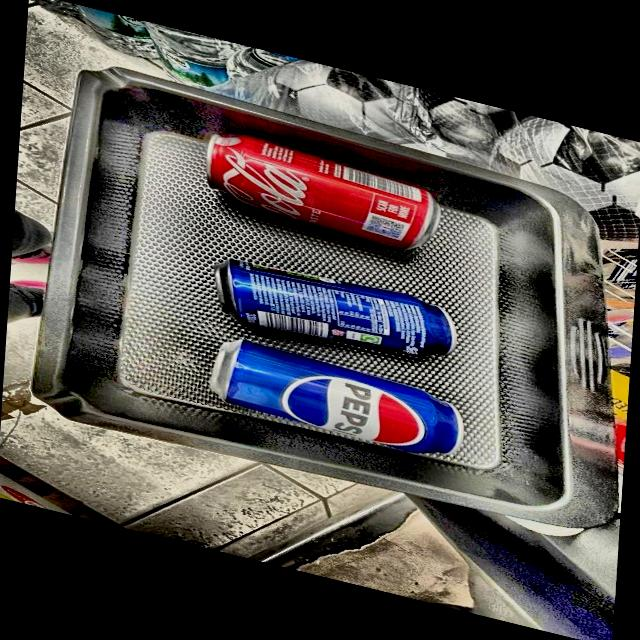coke-can: (204, 128, 446, 254)
pepsi-can: (202, 342, 460, 456), (210, 250, 464, 364)
